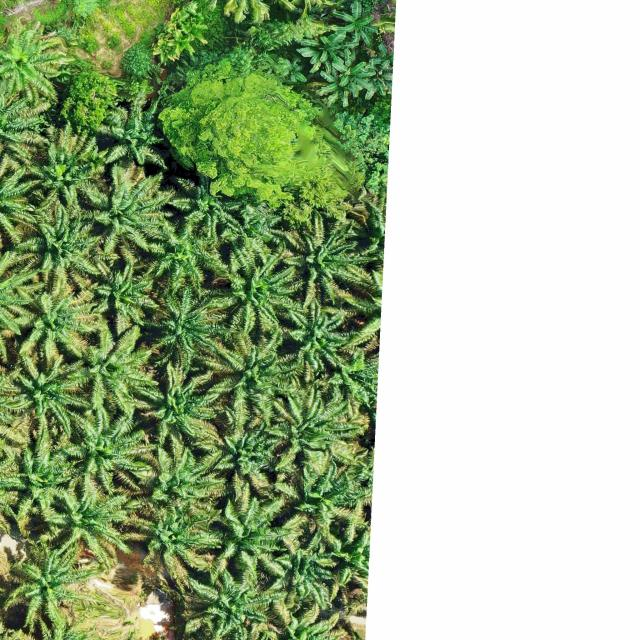Tree: (1, 250, 104, 365), (48, 400, 155, 500), (58, 320, 162, 422), (12, 188, 122, 284), (0, 537, 103, 639), (9, 115, 114, 213), (78, 165, 181, 262), (273, 214, 377, 310), (211, 240, 306, 342), (37, 473, 142, 565), (206, 492, 302, 592), (190, 332, 284, 432), (0, 346, 90, 444), (0, 435, 83, 539), (274, 449, 372, 534), (0, 12, 77, 114), (129, 366, 219, 452), (71, 250, 161, 336), (143, 280, 228, 371), (177, 572, 290, 640), (134, 435, 236, 507), (255, 526, 338, 610), (207, 418, 287, 504), (147, 215, 228, 296), (94, 83, 168, 171), (266, 389, 342, 472), (283, 297, 352, 375), (168, 168, 244, 238), (321, 338, 376, 414), (296, 29, 346, 74), (332, 0, 378, 47), (332, 48, 376, 91), (307, 70, 358, 106)
